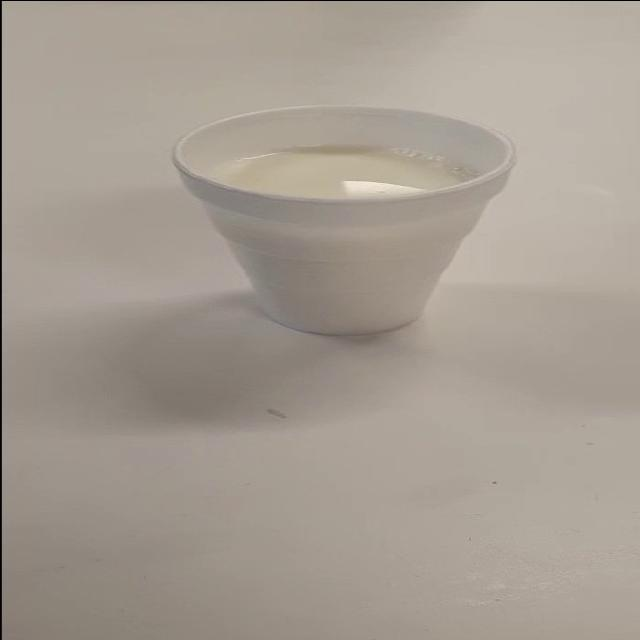Milk: (172, 90, 571, 359)
